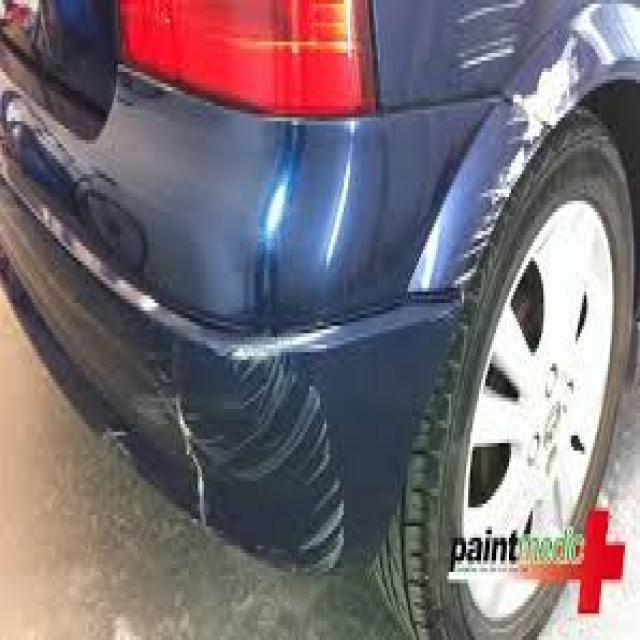minor: (97, 359, 412, 560), (447, 7, 562, 246)
